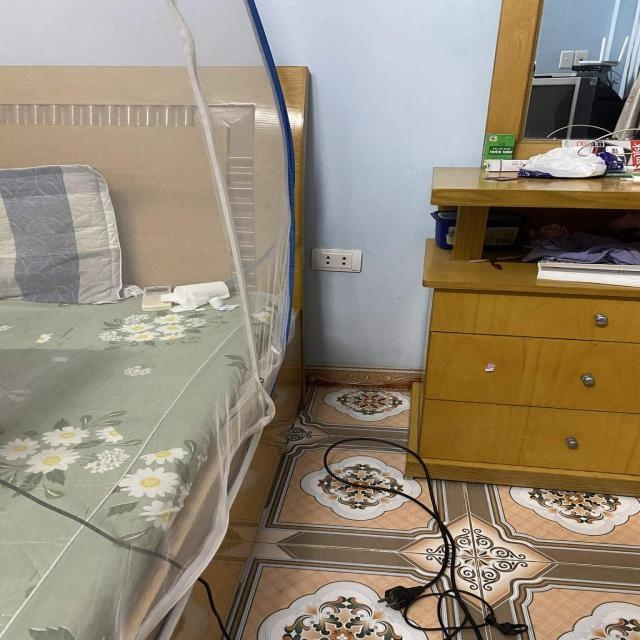outlet: (311, 248, 361, 272)
